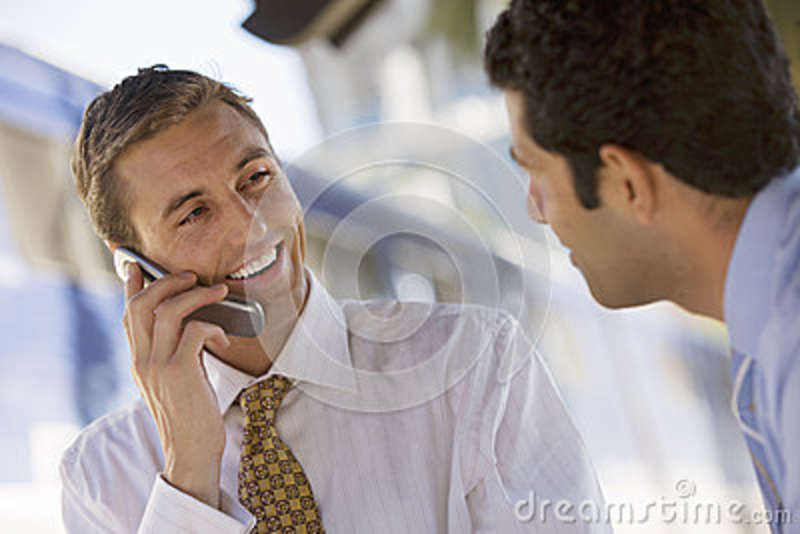phone: (116, 244, 241, 347)
talk: (114, 135, 308, 482)
